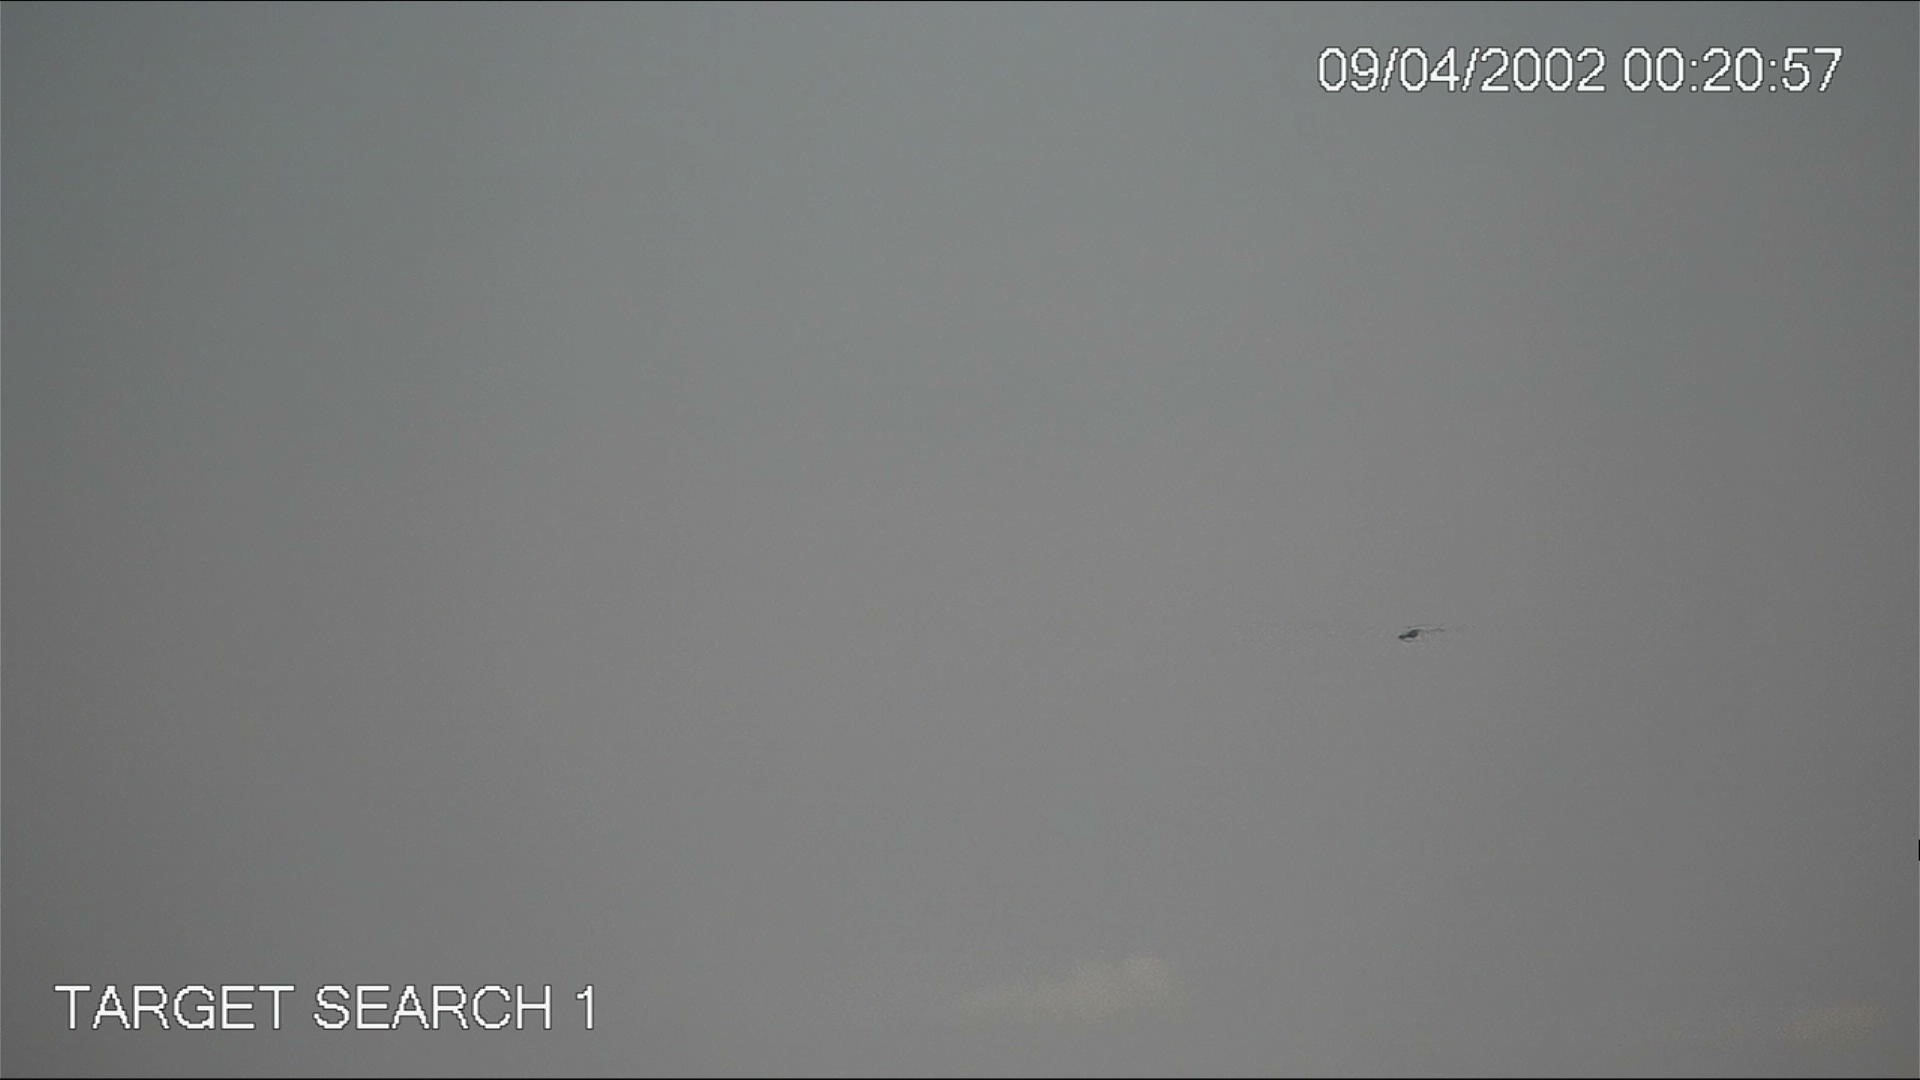SU_30: (1396, 622, 1424, 640)
